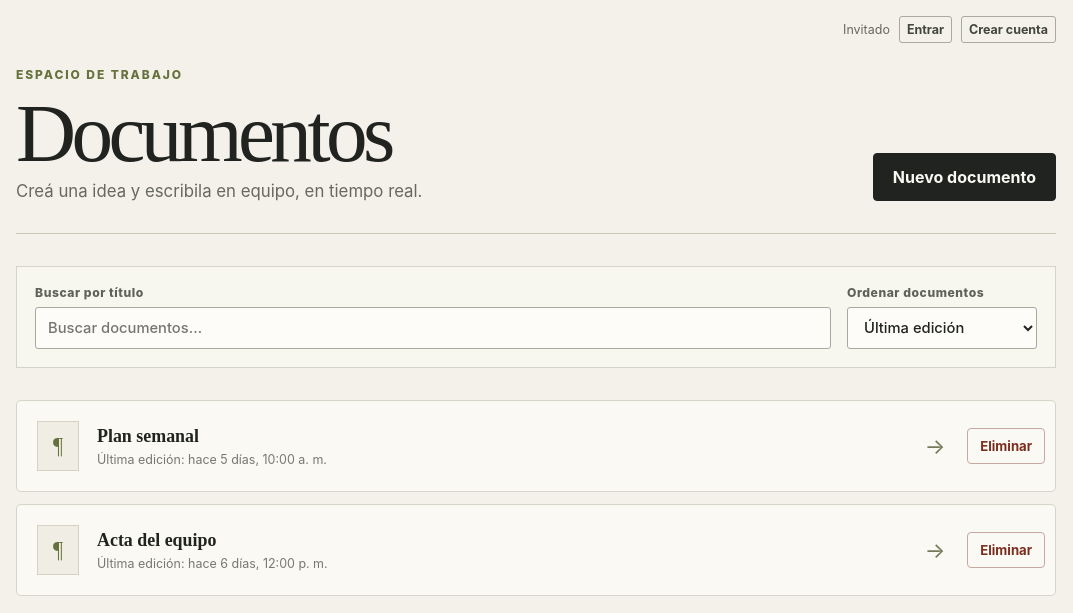
DocumentList › filters documents by title
expect the text "Plan semanal" is shown: met, box [97, 426, 199, 446]
Step 1. Type "acta" into the search field labelled "Buscar por título" → x=433, y=328, box [35, 307, 831, 349]
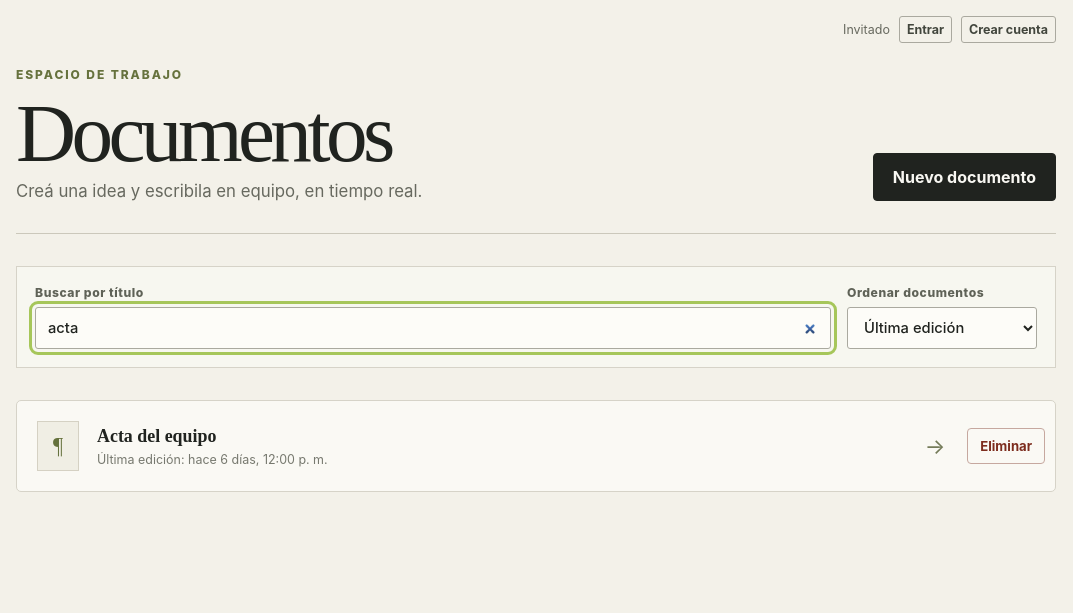
expect the text "Acta del equipo" is shown: met, box [97, 426, 216, 446]
expect the button "Plan semanal" is gone: met
